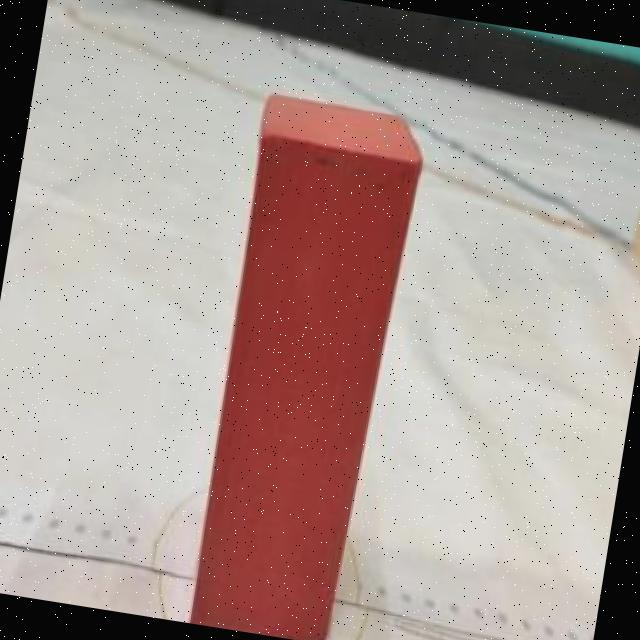redbox: (178, 89, 431, 640)
